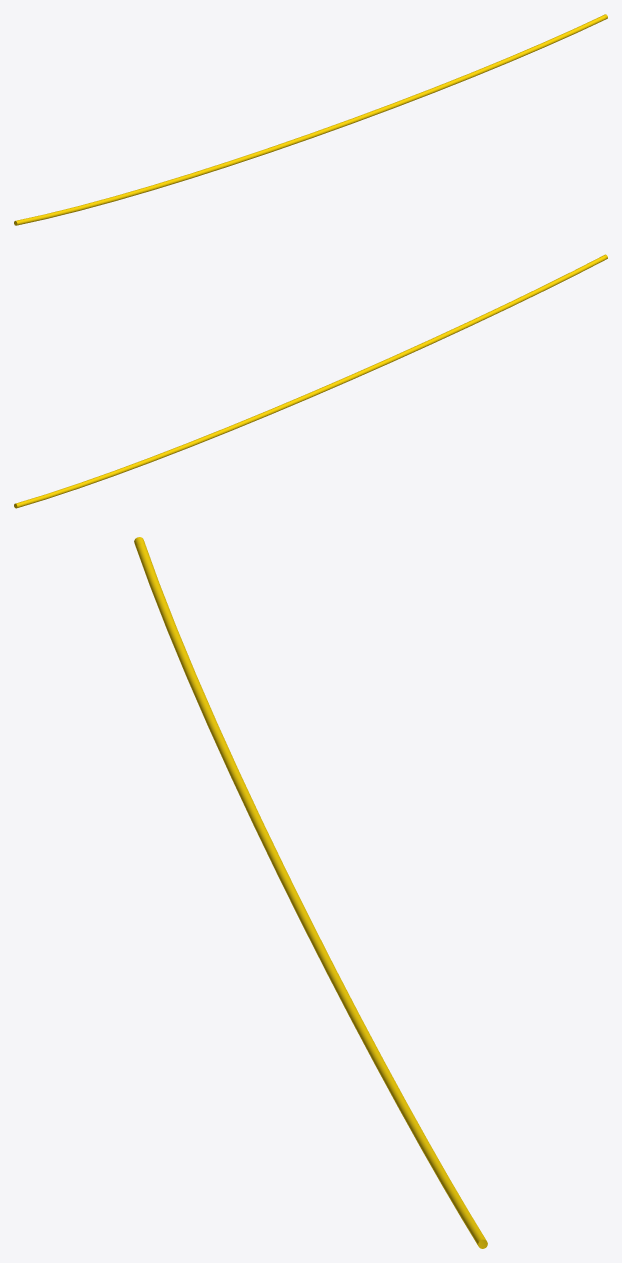
File: Event_421278790_track_13.fbx
3 views of the same model, one above another, from view 1: azimuth 30°, elevation 25°; view 2: azimuth 210°, elevation 25°; view 3: azimuth 270°, elevation 25° (orthographic). The views are drawn at different scales.
Parts seen in each view (by area): view 1: Model; view 2: Model; view 3: Model.
Boxes of the visible parts, bbox=[...] form: Model: bbox=[14, 14, 607, 225]; Model: bbox=[14, 254, 607, 508]; Model: bbox=[134, 537, 487, 1248].
Size of the model in its own units: 6.27 by 0.286 by 1.42.
